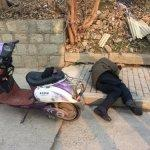Fall-Detected: (81, 49, 147, 119)
